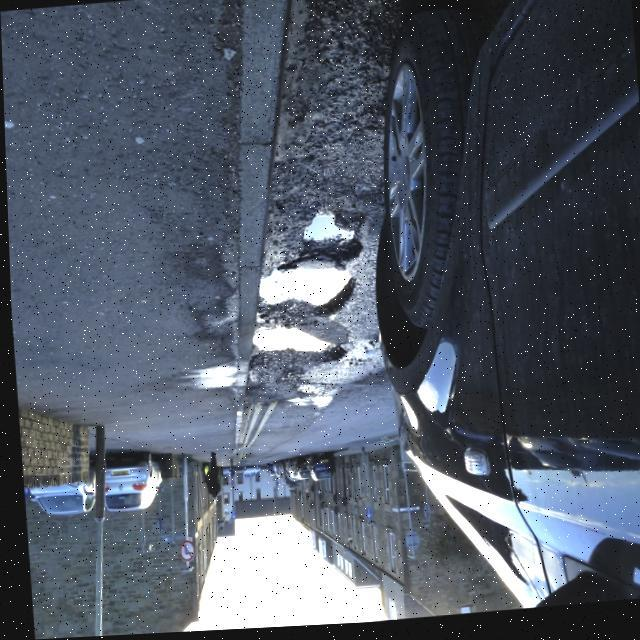pothole: (255, 256, 358, 322), (248, 316, 340, 376), (290, 195, 360, 272)
